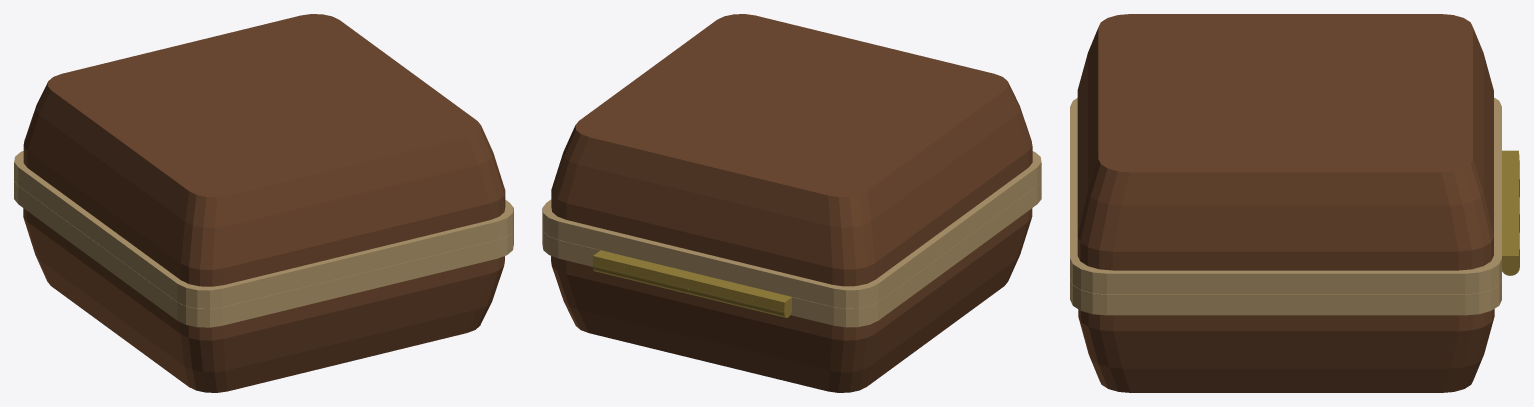
Rendered from watch.glb.
The picture shows the model from 3 angles, left to right: view 1: azimuth 30°, elevation 25°; view 2: azimuth 150°, elevation 25°; view 3: azimuth 270°, elevation 25°; orthographic projection. The views are drawn at different scales.
Parts seen in each view (by area): view 1: Cube.002, Cube.004; view 2: Cube.002, Cube.004, Cylinder.006, Cylinder.002, Cylinder.001, Cylinder.005, Cylinder.003, Cylinder.007; view 3: Cube.002, Cube.004, Cylinder.003.
Boxes of the visible parts, x1,y1,x2,y2 form: Cube.002: (14,14,513,308); Cube.004: (14,181,513,392); Cube.002: (542,14,1041,308); Cube.004: (542,181,1041,392); Cylinder.006: (752,289,791,317); Cylinder.002: (720,281,759,309); Cylinder.001: (656,266,695,294); Cylinder.005: (688,273,727,301); Cylinder.003: (592,250,631,278); Cylinder.007: (624,258,664,286); Cube.002: (1070,14,1501,294); Cube.004: (1070,279,1501,392); Cylinder.003: (1502,238,1519,275).
Size of the model in its own units: 1.82 by 1.02 by 1.89.
